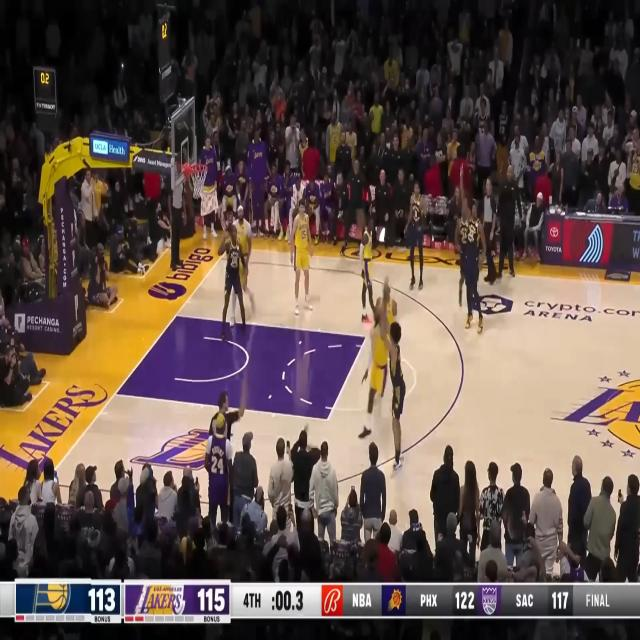Ball: (355, 209, 367, 231)
Period: (242, 588, 262, 611), (586, 591, 611, 609)
Player: (377, 269, 406, 475), (358, 272, 391, 440), (459, 165, 487, 334), (218, 222, 247, 346), (404, 180, 434, 290), (231, 204, 258, 326), (288, 198, 314, 314), (356, 217, 378, 320), (457, 202, 473, 304), (383, 282, 400, 324)
Ref: (209, 360, 249, 444), (168, 164, 187, 272), (483, 177, 499, 284)
Team Name: (514, 591, 534, 609), (419, 592, 439, 609)
Team Points: (194, 585, 228, 613), (86, 584, 116, 612), (454, 586, 476, 610), (550, 589, 570, 611)
Time Remaining: (270, 587, 305, 613)
